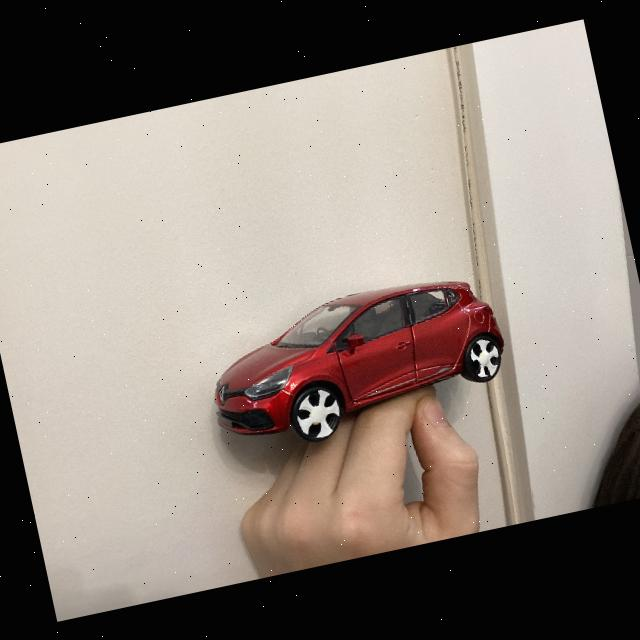Yanlis_Jant: (292, 386, 345, 443), (466, 336, 503, 380)
